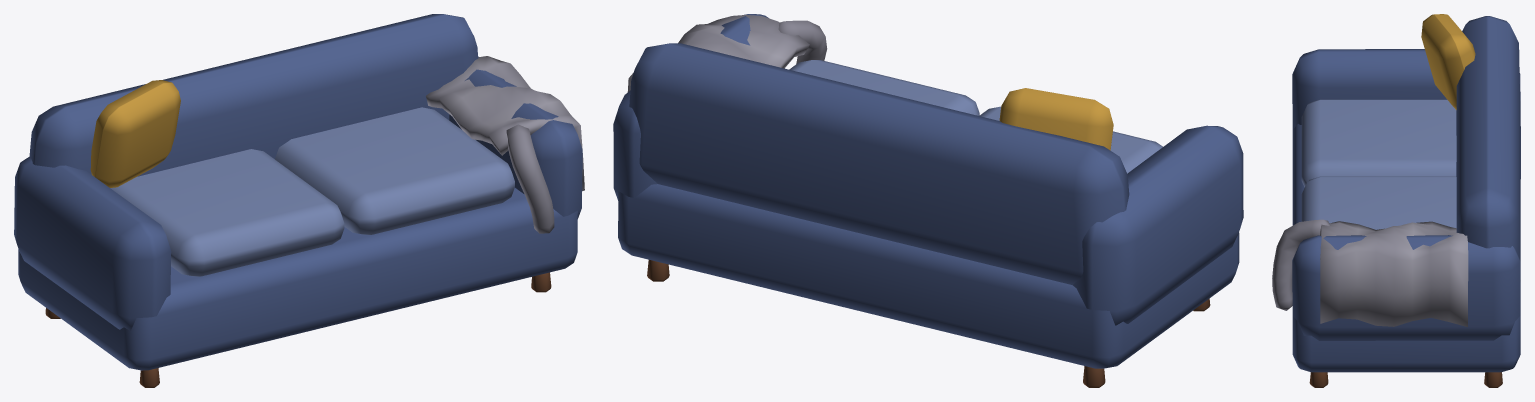
File: couch.glb
3 renders of one model, left to right at view 1: azimuth 30°, elevation 25°; view 2: azimuth 150°, elevation 25°; view 3: azimuth 270°, elevation 25°, orthographic. The views are drawn at different scales.
Visible parts, largest first — view 1: couch, cushion_R, cushion_L, sweater; view 2: couch, sweater, cushion_R, cushion_L; view 3: couch, sweater, cushion_L, cushion_R.
Part boxes in pixels (x1,y1,x2,y2): couch: (14, 14, 582, 387); cushion_R: (275, 107, 514, 234); cushion_L: (110, 149, 344, 276); sweater: (426, 56, 584, 233); couch: (613, 14, 1243, 387); sweater: (627, 14, 827, 92); cushion_R: (789, 60, 979, 115); cushion_L: (979, 106, 1162, 173); couch: (1292, 14, 1520, 387); sweater: (1272, 219, 1468, 326); cushion_L: (1301, 99, 1456, 187); cushion_R: (1301, 176, 1456, 229).
Bounding box in the file's own units: 1.89 × 0.8732 × 0.9268.
